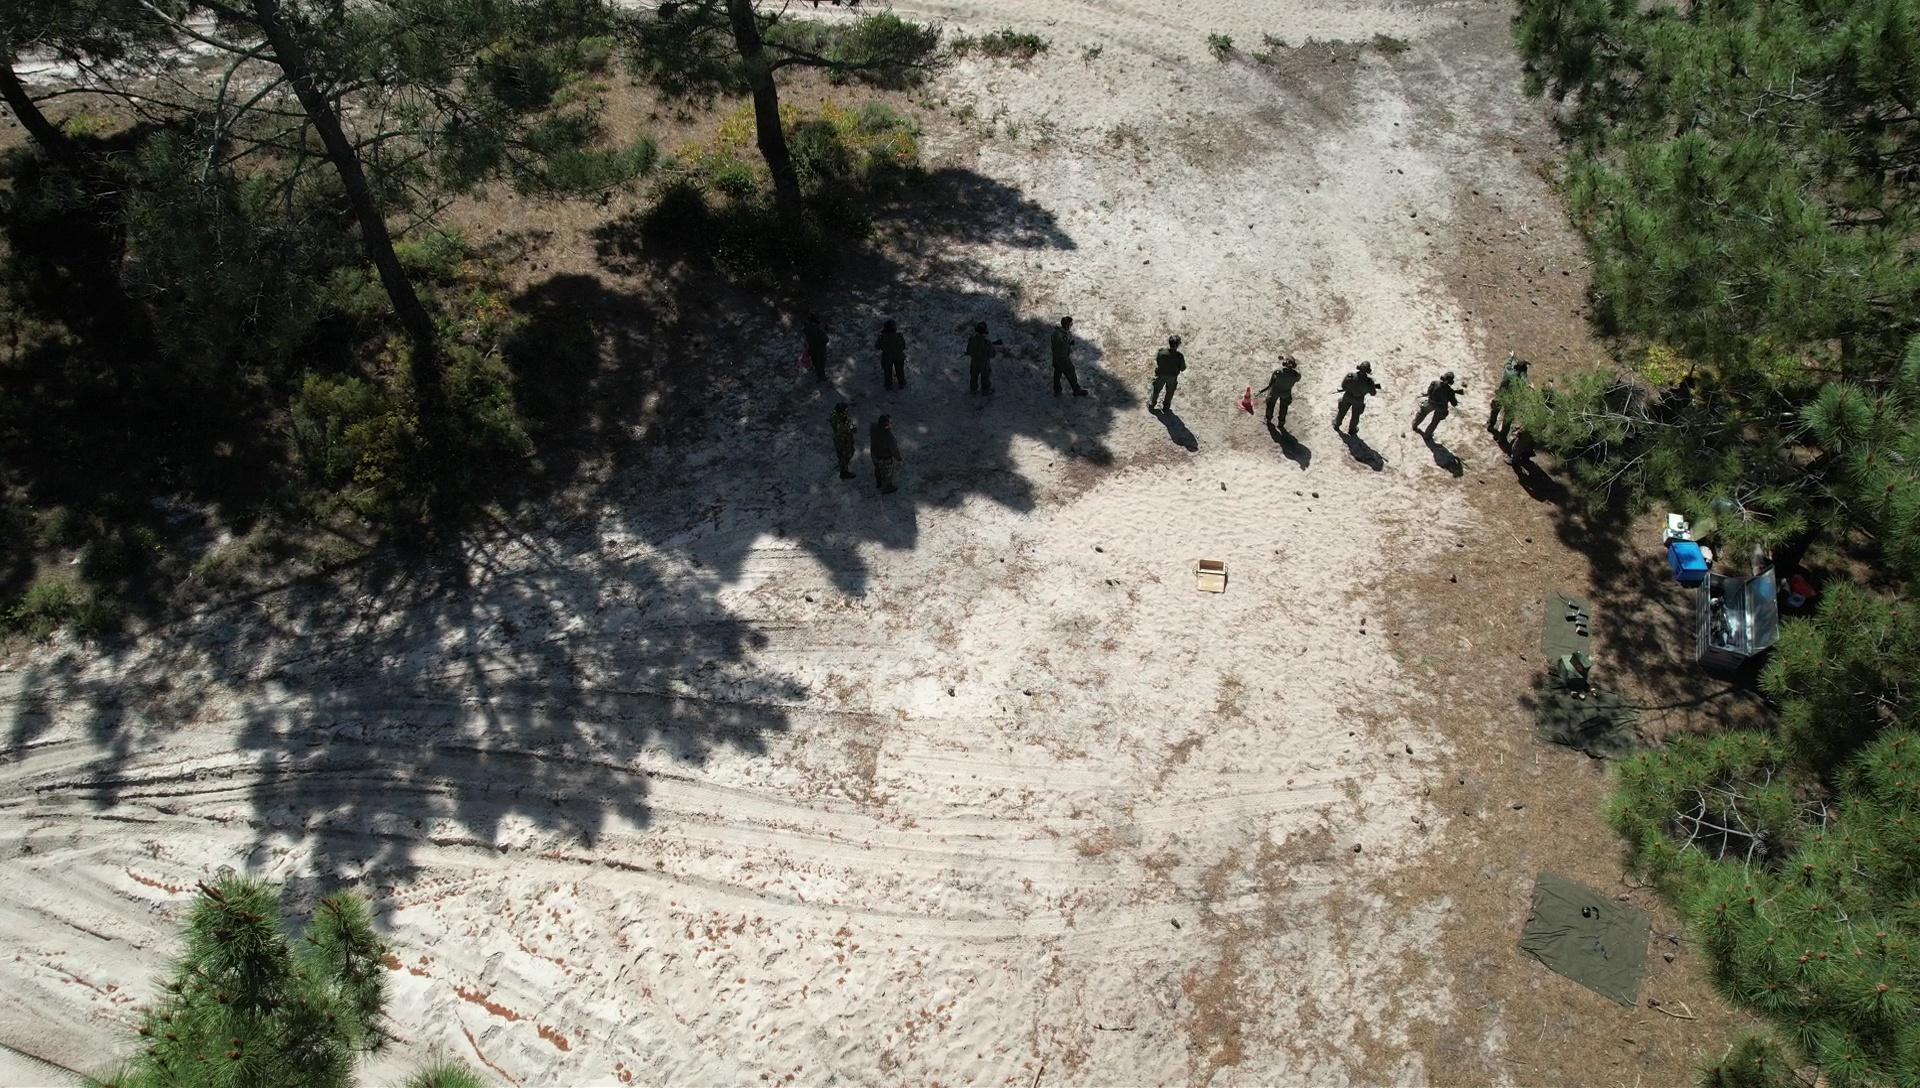Soldier: (855, 419, 913, 501), (1407, 375, 1462, 458), (1044, 323, 1088, 408), (1261, 361, 1299, 456), (957, 328, 1004, 406), (1331, 368, 1375, 444), (1145, 338, 1188, 415), (870, 323, 915, 393), (796, 309, 835, 385), (827, 408, 865, 481), (1501, 418, 1535, 499)
